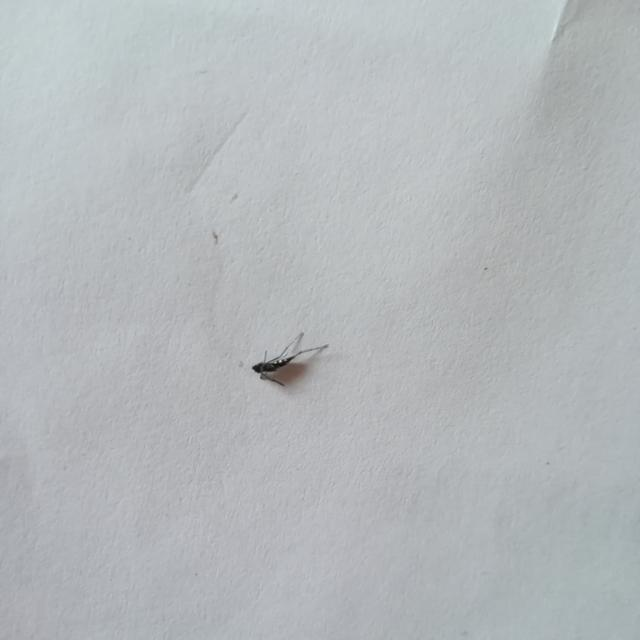albopictus: (243, 328, 330, 388)
